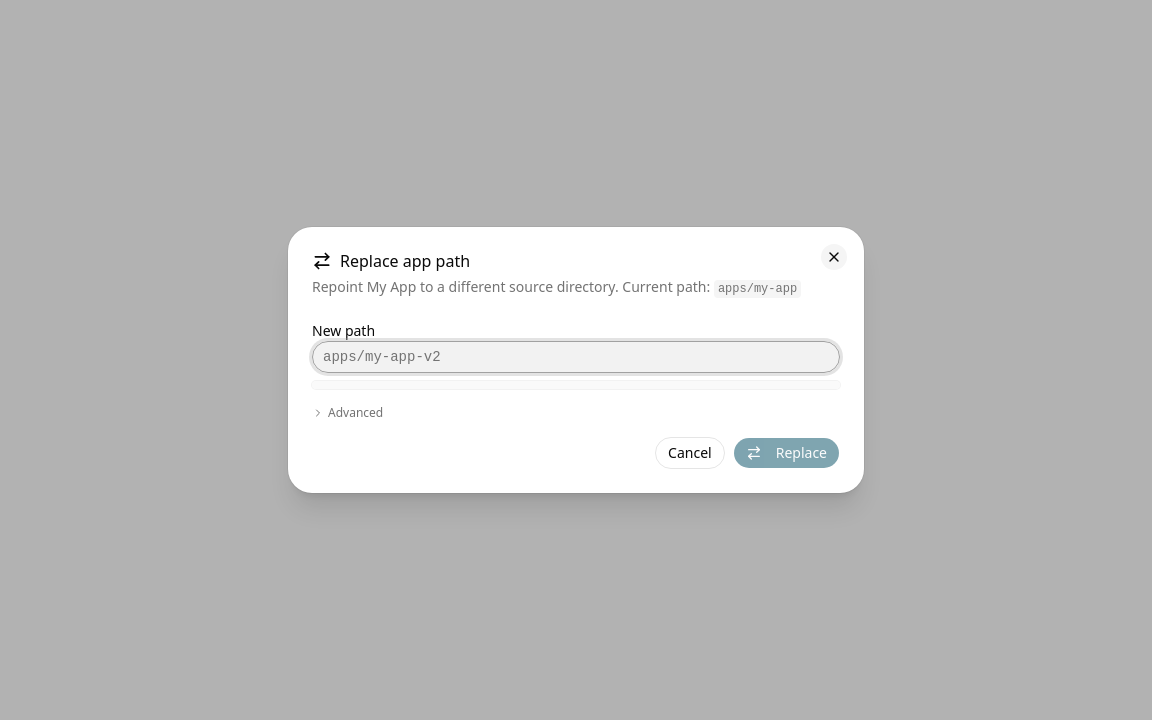
AppReplacePathDialog — phase transitions › shows validation errors grouped by severity
Type "apps/bar" into the field labelled "New path" at (576, 357), box [312,341,840,373]
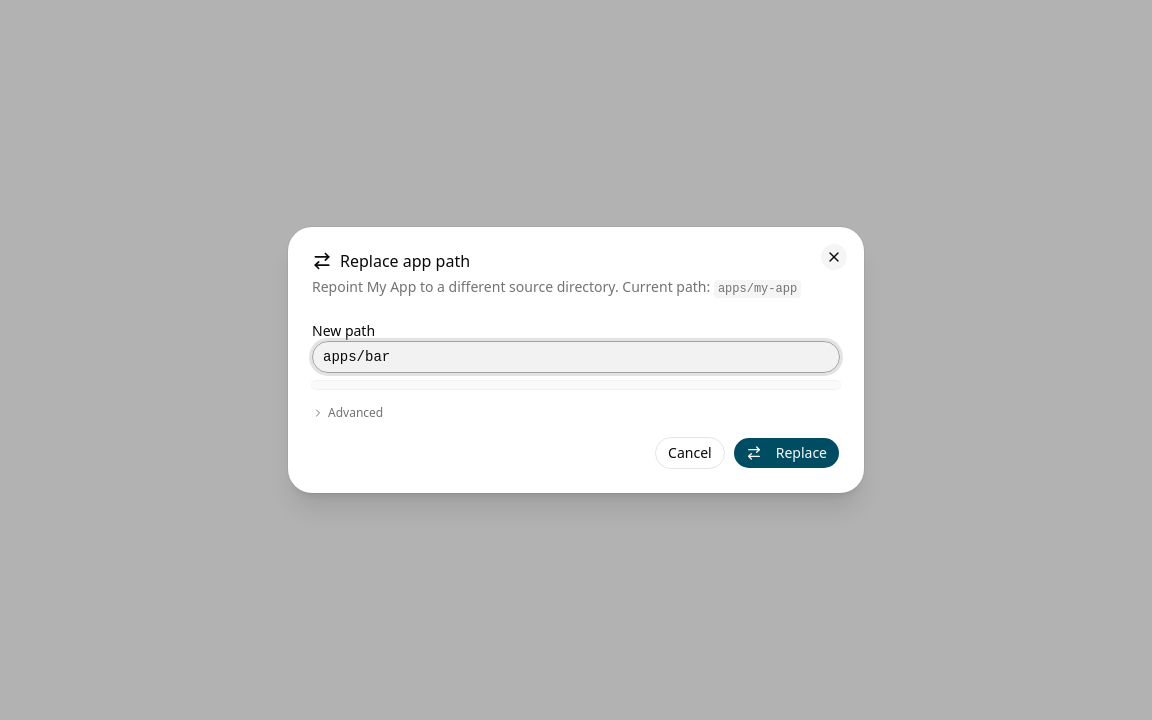
Click the button "Replace" at (786, 453), box [733,437,840,469]
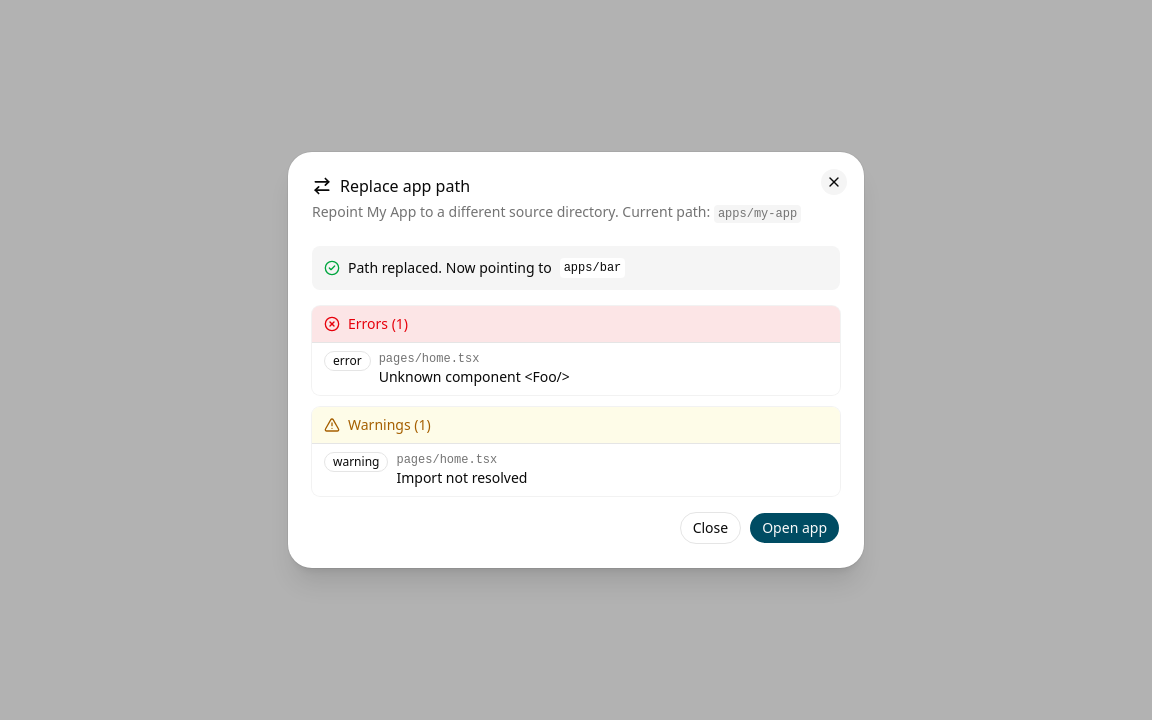
Check: the text "Errors (1)" is shown, box [312,306,840,343]
Check: the text "Unknown component <Foo/>" is shown, box [379,367,570,386]
Check: the text "Warnings (1)" is shown, box [312,407,840,444]
